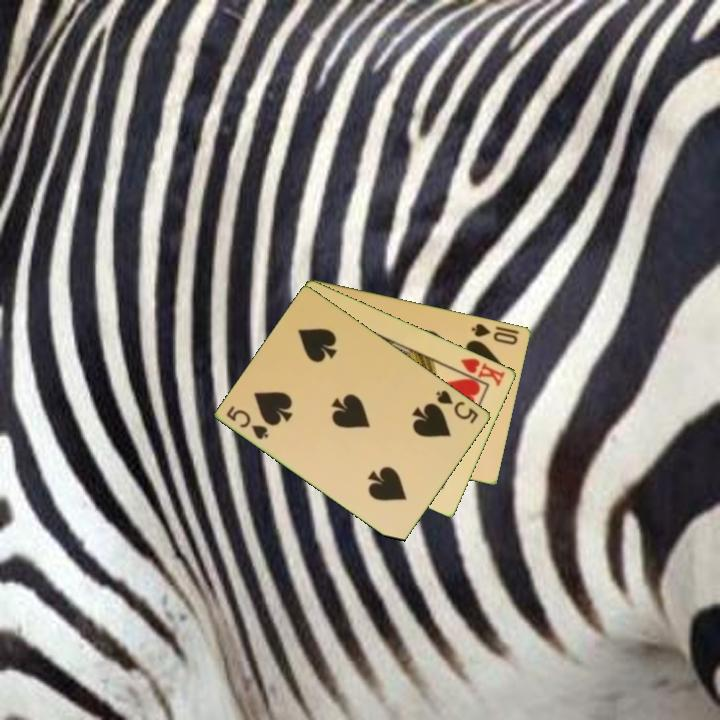10s: (468, 320, 521, 347)
5s: (433, 386, 482, 426), (223, 402, 272, 442)
Kh: (451, 354, 508, 389)
